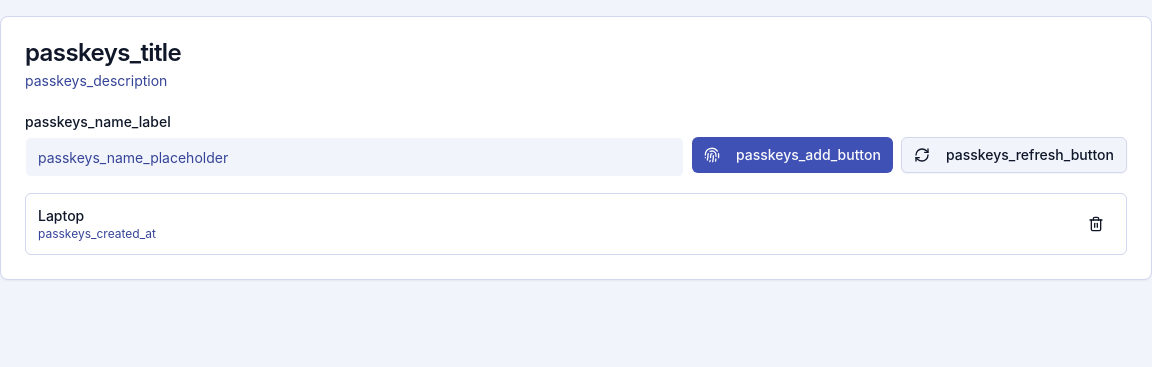
Scenario: PasskeySettingsCard › shows the create error
Click the button "passkeys_add_button": click(792, 155) [692,137,893,173]
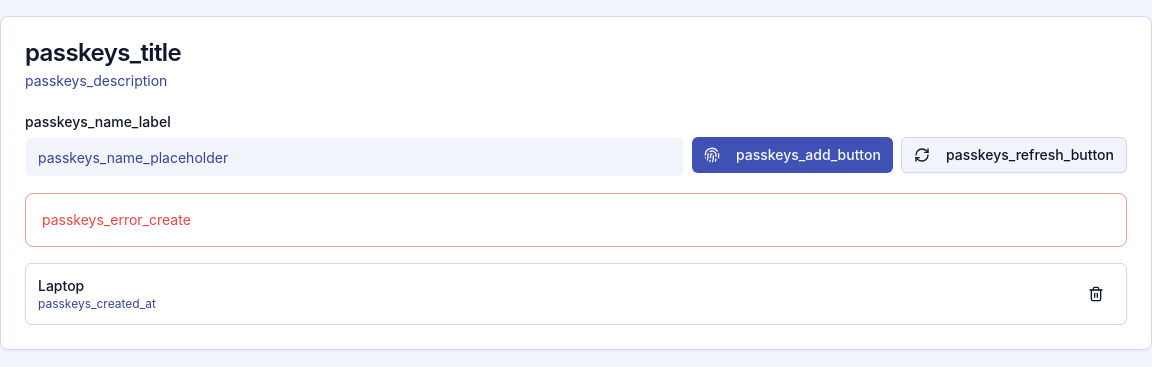
Now the text "passkeys_error_create" is shown, box [42,211,191,228]
